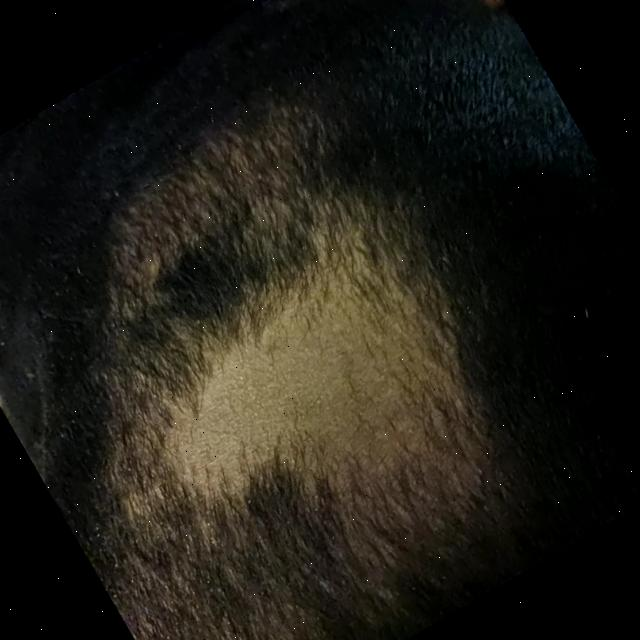cat-hairloss: (58, 101, 526, 608)
